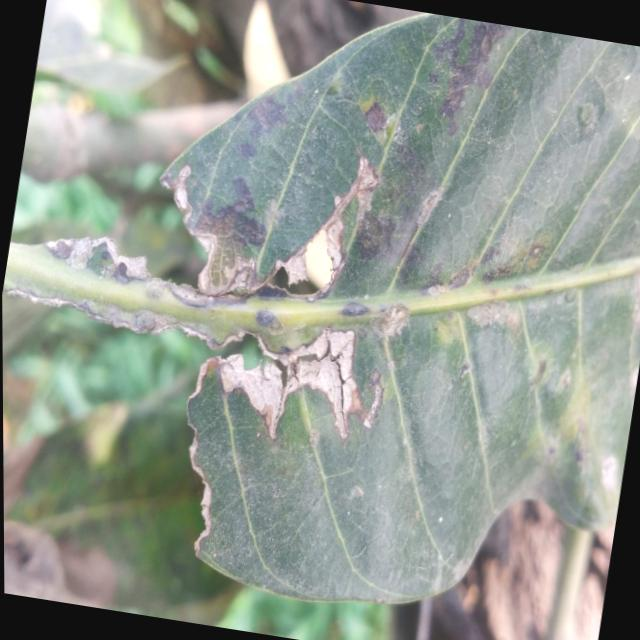Bacterial Cancer: (223, 324, 381, 450), (289, 174, 368, 301)
black die: (420, 23, 483, 112), (208, 171, 262, 236), (234, 111, 281, 169)
